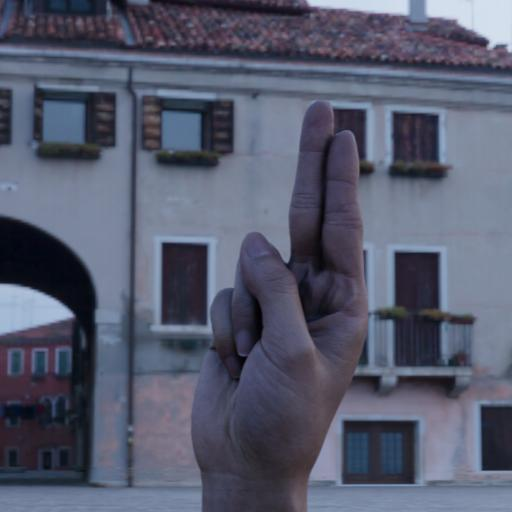U: (163, 89, 372, 512)
